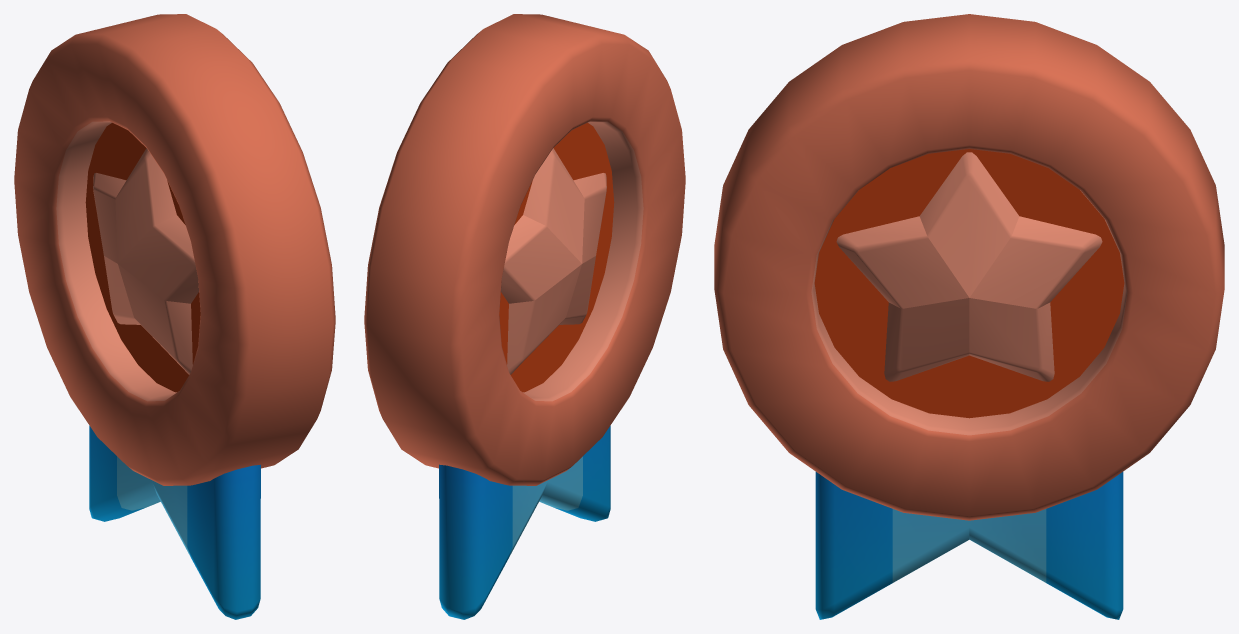
Rendered from Coin_V3_02.fbx.
3 renders of one model, left to right at view 1: azimuth 30°, elevation 25°; view 2: azimuth 150°, elevation 25°; view 3: azimuth 270°, elevation 25°, orthographic. The views are drawn at different scales.
Parts seen in each view (by area): view 1: Coin_V3_02; view 2: Coin_V3_02; view 3: Coin_V3_02.
Part boxes in pixels (bbox=[...]): Coin_V3_02: bbox=[14, 14, 335, 619]; Coin_V3_02: bbox=[364, 14, 685, 619]; Coin_V3_02: bbox=[714, 14, 1224, 619].
Size of the model in its own units: 12.19 by 53.92 by 43.
